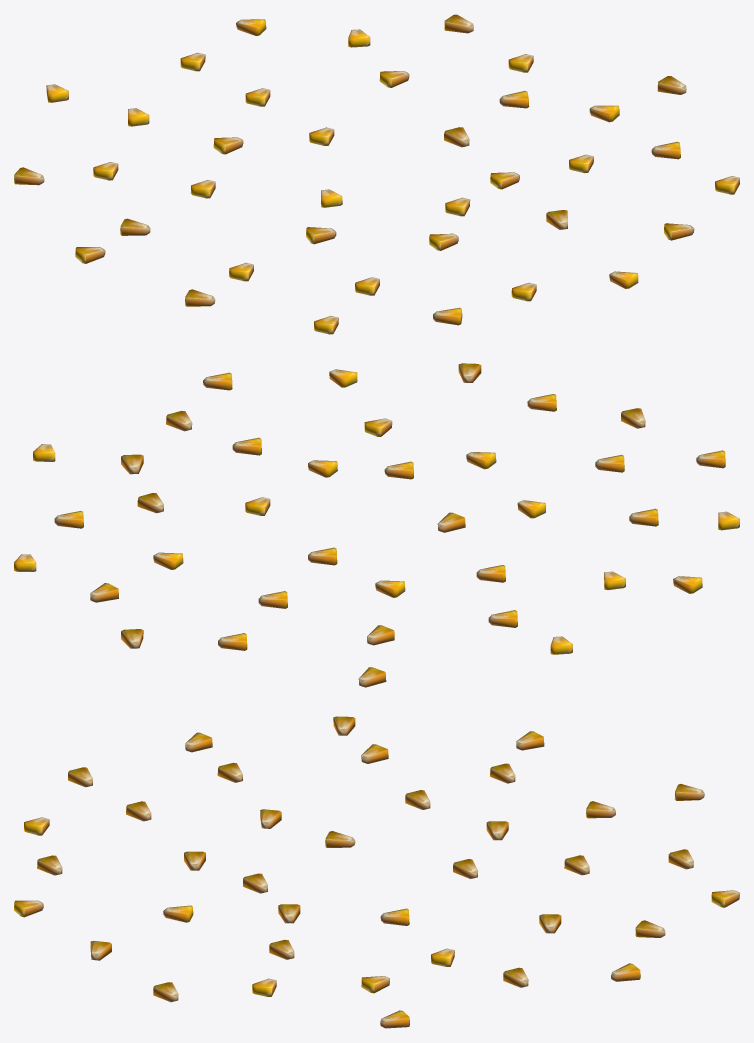
File: corn_topping.fbx
3 views of the same model, one above another, from view 1: azimuth 30°, elevation 25°; view 2: azimuth 150°, elevation 25°; view 3: azimuth 270°, elevation 25° (orthographic). The views are drawn at different scales.
Bounding box in the file's own units: 52.08 × 0.6681 × 52.58.
Materials: 12 (12 with a texture image).
